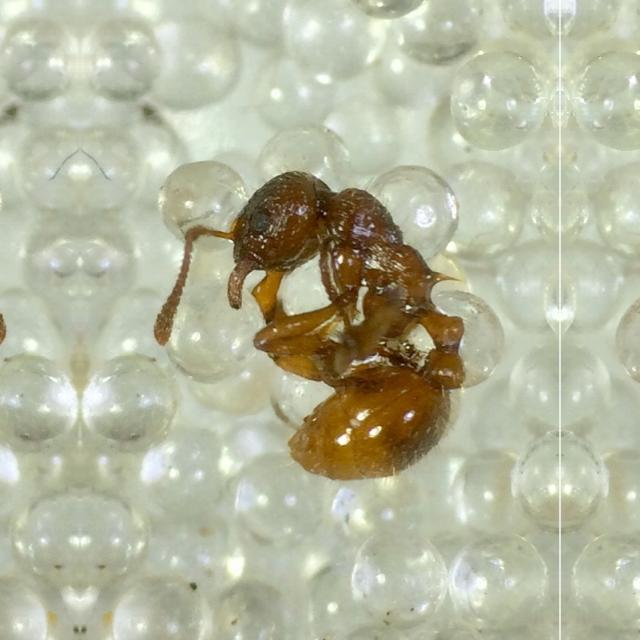Myrmica: (159, 114, 515, 506)
